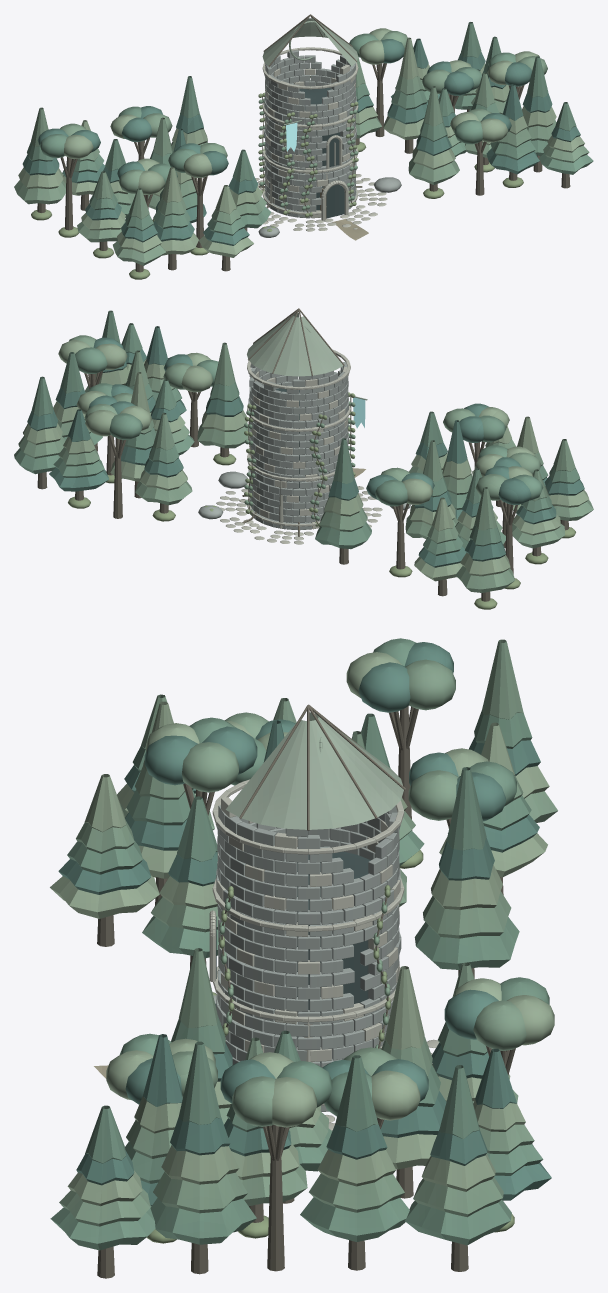
Rendered from village-old-tower.glb.
The picture shows the model from 3 angles, top to bottom: view 1: azimuth 30°, elevation 25°; view 2: azimuth 150°, elevation 25°; view 3: azimuth 270°, elevation 25°; orthographic projection. The views are drawn at different scales.
Visible parts, largest first — view 1: Forest hamlet; view 2: Forest hamlet; view 3: Forest hamlet.
Boxes of the visible parts, <box> form: Forest hamlet: <box>14,14,593,279</box>; Forest hamlet: <box>14,308,593,609</box>; Forest hamlet: <box>50,638,557,1278</box>.
Bounding box in the file's own units: 31.64 × 11.96 × 14.76.
14 materials, 14 textured.
